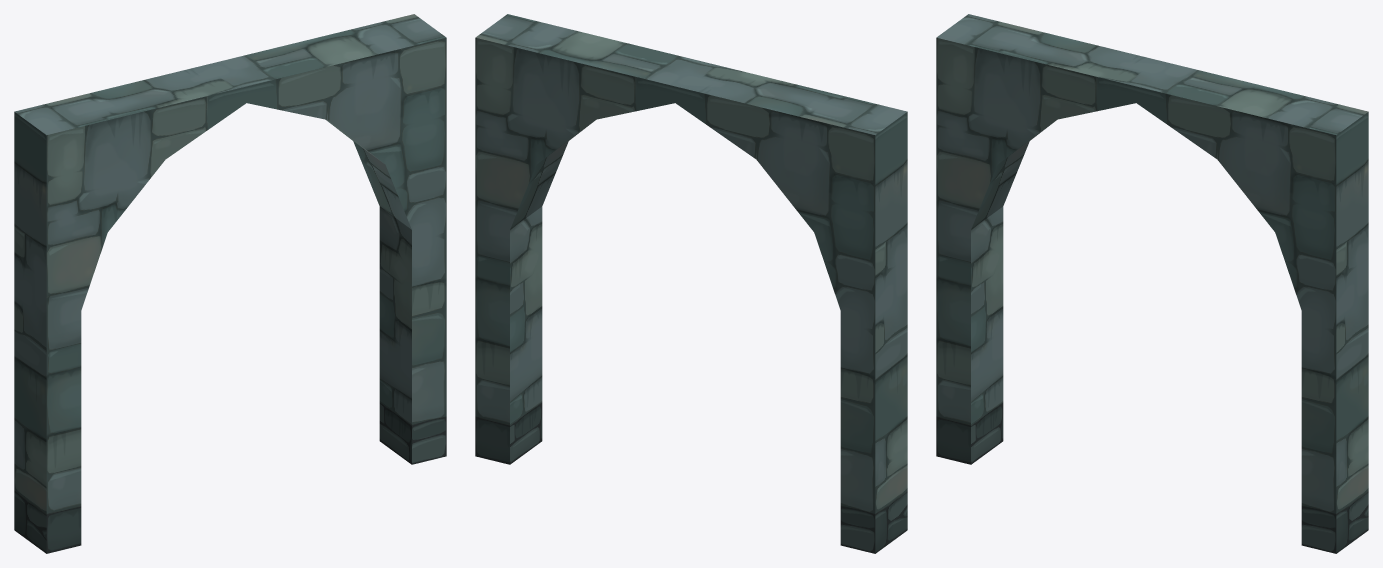
File: Dg_01_wall_001.FBX
The picture shows the model from 3 angles, left to right: view 1: azimuth 30°, elevation 25°; view 2: azimuth 150°, elevation 25°; view 3: azimuth 330°, elevation 25°; orthographic projection.
Visible parts, largest first — view 1: Dg_01_wall_001; view 2: Dg_01_wall_001; view 3: Dg_01_wall_001.
Part boxes in pixels (x1,y1,x2,y2): Dg_01_wall_001: [14, 14, 446, 553]; Dg_01_wall_001: [475, 14, 907, 553]; Dg_01_wall_001: [936, 14, 1368, 553].
Bounding box in the file's own units: 5 × 5 × 0.7001.
